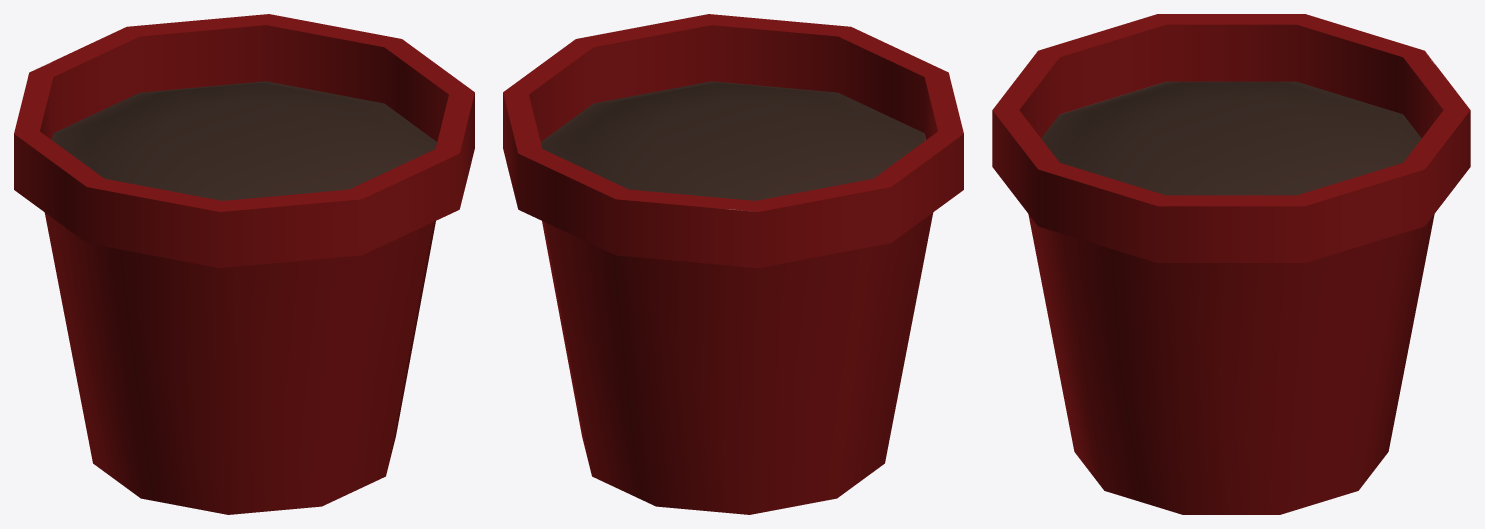
The model's file is furniture_garden_210046.glb.
The picture shows the model from 3 angles, left to right: view 1: azimuth 30°, elevation 25°; view 2: azimuth 150°, elevation 25°; view 3: azimuth 270°, elevation 25°; orthographic projection.
Visible parts, largest first — view 1: furniture_garden_210046; view 2: furniture_garden_210046; view 3: furniture_garden_210046.
Part boxes in pixels (box(x1,y1,x2,y2)): furniture_garden_210046: box(14, 14, 474, 514); furniture_garden_210046: box(503, 14, 963, 514); furniture_garden_210046: box(992, 14, 1470, 514).
Bounding box in the file's own units: 0.4341 × 0.36 × 0.4564.
1 material, 1 textured.
